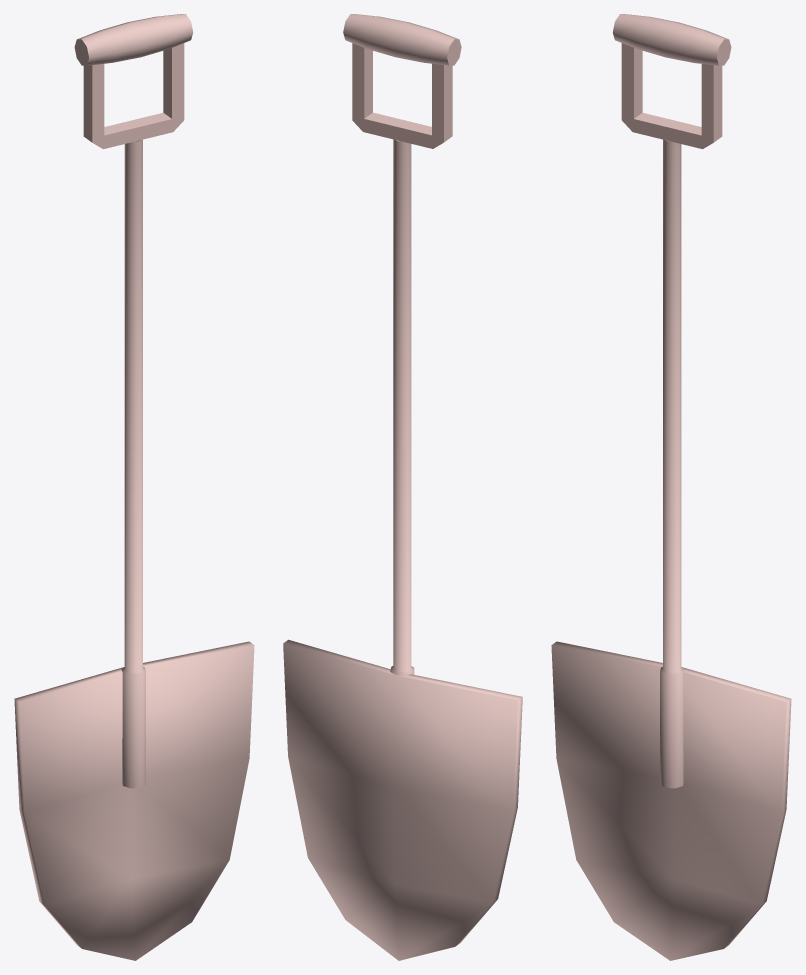
The model's file is SM_Shovel.fbx.
3 renders of one model, left to right at view 1: azimuth 30°, elevation 25°; view 2: azimuth 150°, elevation 25°; view 3: azimuth 330°, elevation 25°, orthographic.
Parts seen in each view (by area): view 1: Cube.002; view 2: Cube.002; view 3: Cube.002.
Boxes of the visible parts, <box> form: Cube.002: <box>14,14,254,960</box>; Cube.002: <box>283,14,522,960</box>; Cube.002: <box>551,14,791,960</box>.
Size of the model in its own units: 30.41 by 116 by 4.36.
